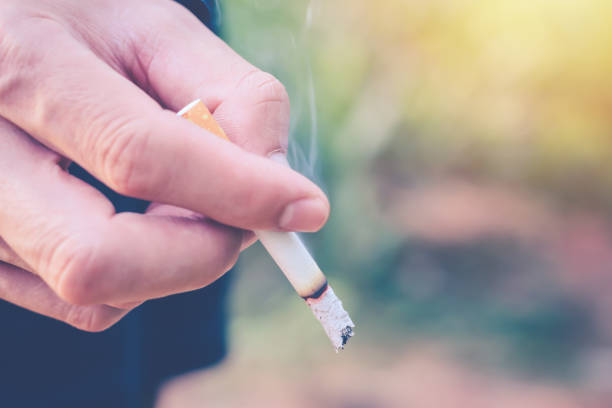cigarette: (176, 96, 355, 350)
